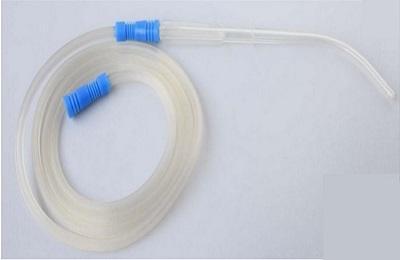Suction Tube Nozzle: (10, 18, 392, 254)
